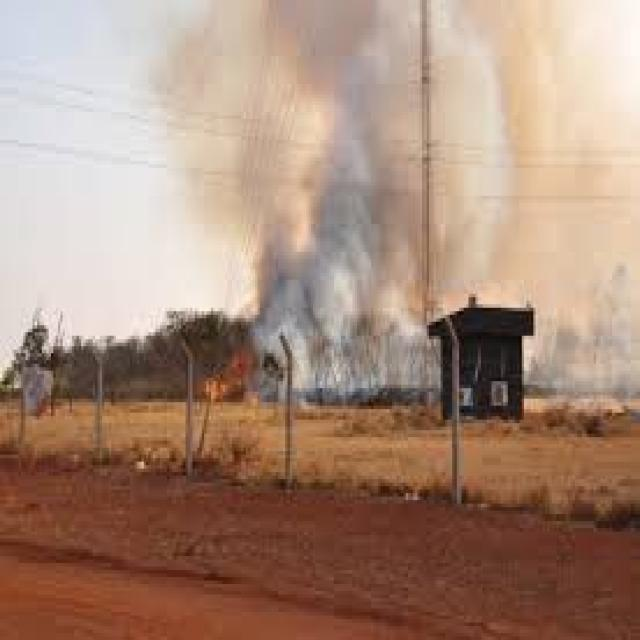Fire: (206, 364, 248, 399)
Smoke: (257, 25, 438, 388)
